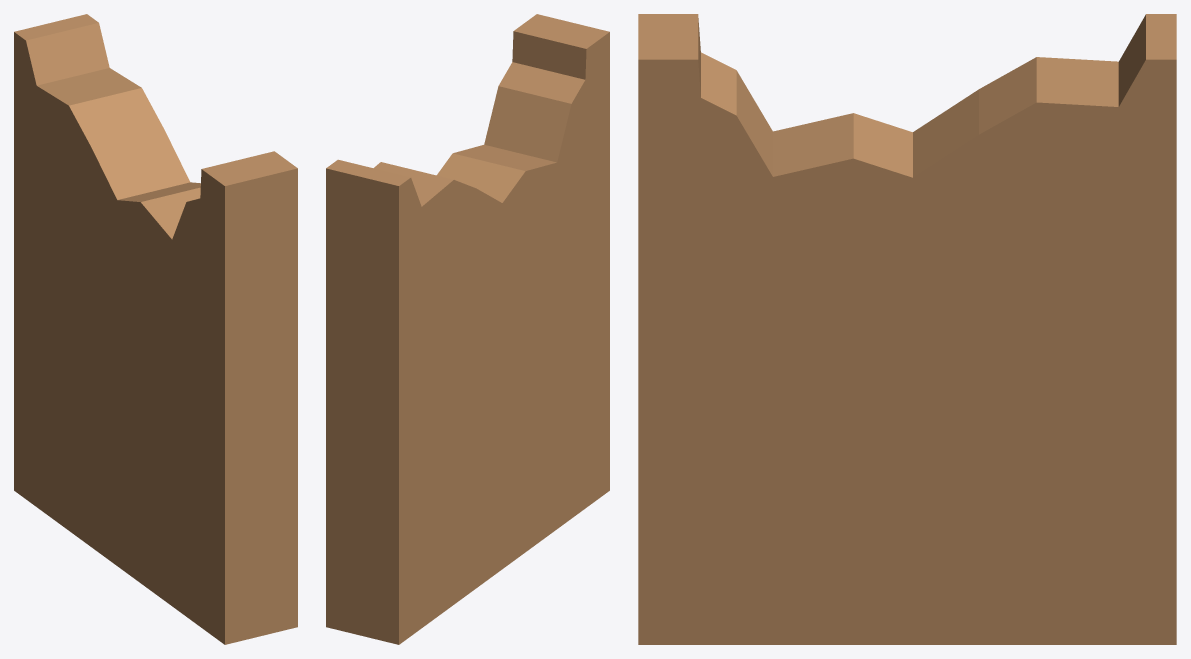
Rendered from Wall_E_2_1.fbx.
The picture shows the model from 3 angles, left to right: view 1: azimuth 30°, elevation 25°; view 2: azimuth 150°, elevation 25°; view 3: azimuth 270°, elevation 25°; orthographic projection. The views are drawn at different scales.
Visible parts, largest first — view 1: Wall_E_2_1; view 2: Wall_E_2_1; view 3: Wall_E_2_1.
Boxes of the visible parts, <box> form: Wall_E_2_1: <box>14,14,297,644</box>; Wall_E_2_1: <box>326,14,609,644</box>; Wall_E_2_1: <box>638,14,1176,644</box>.
Bounding box in the file's own units: 40 × 240 × 200.
